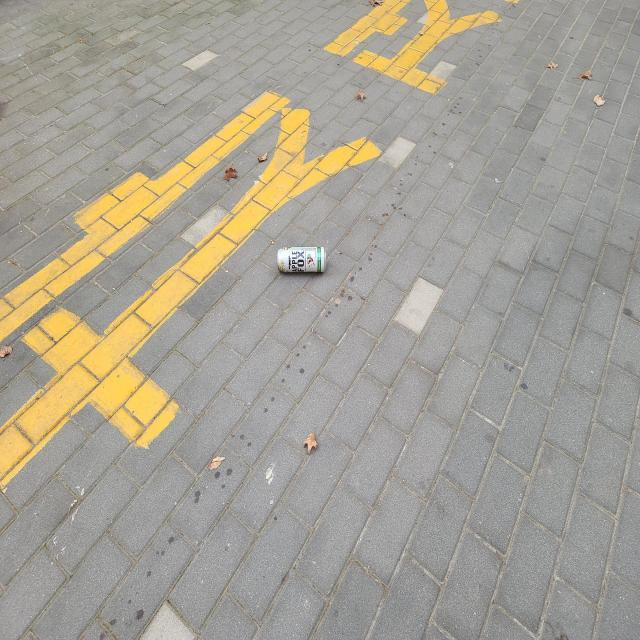can: (277, 246, 327, 272)
